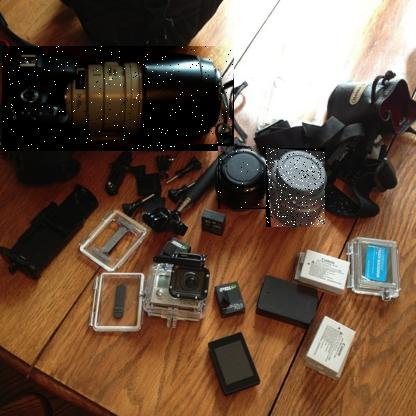Camera: (3, 47, 236, 153), (267, 149, 327, 229), (219, 147, 268, 211)
